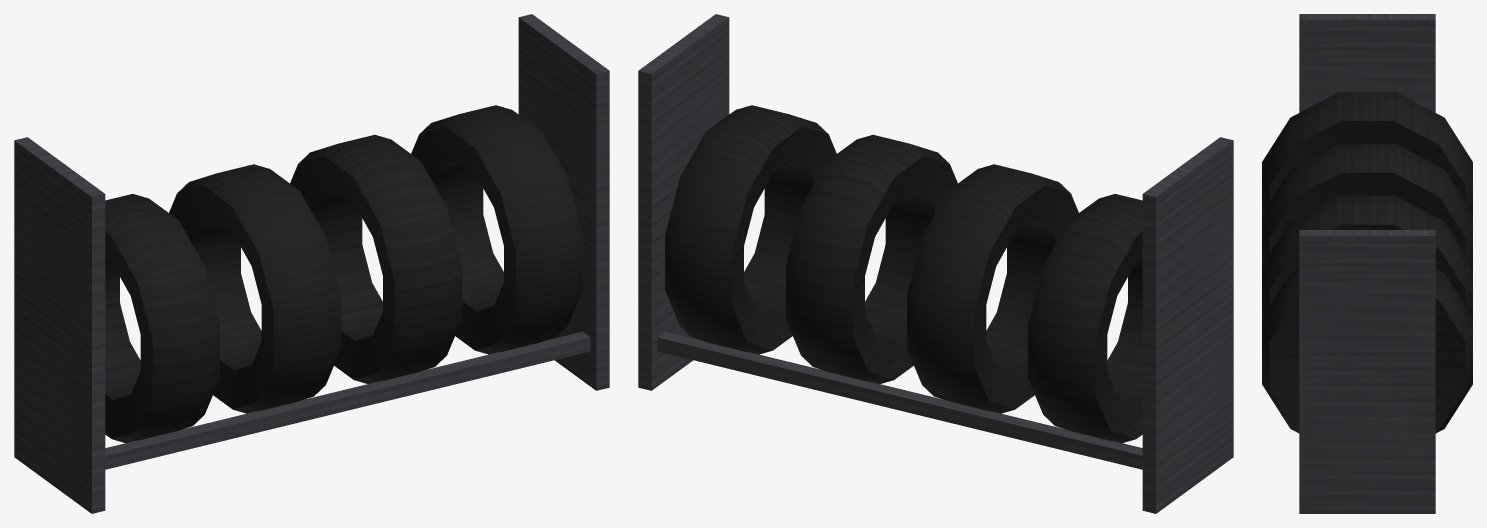
The model's file is rack_pneus.glb.
3 renders of one model, left to right at view 1: azimuth 30°, elevation 25°; view 2: azimuth 150°, elevation 25°; view 3: azimuth 270°, elevation 25°, orthographic. The views are drawn at different scales.
Visible parts, largest first — view 1: Inteiro; view 2: Inteiro; view 3: Inteiro.
Boxes of the visible parts, x1,y1,x2,y2 form: Inteiro: (14, 14, 609, 513); Inteiro: (638, 14, 1233, 513); Inteiro: (1262, 14, 1472, 513).
Size of the model in its own units: 1.54 by 0.9 by 0.6182.
1 material, 1 textured.
